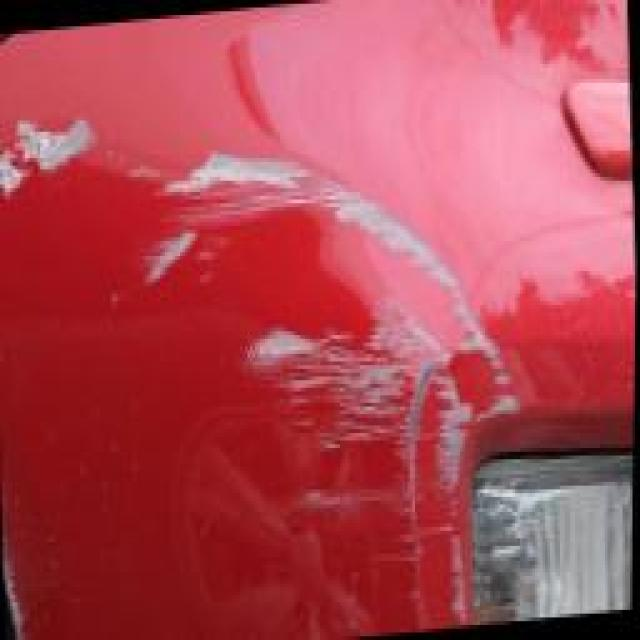Fender: (0, 8, 605, 640)
